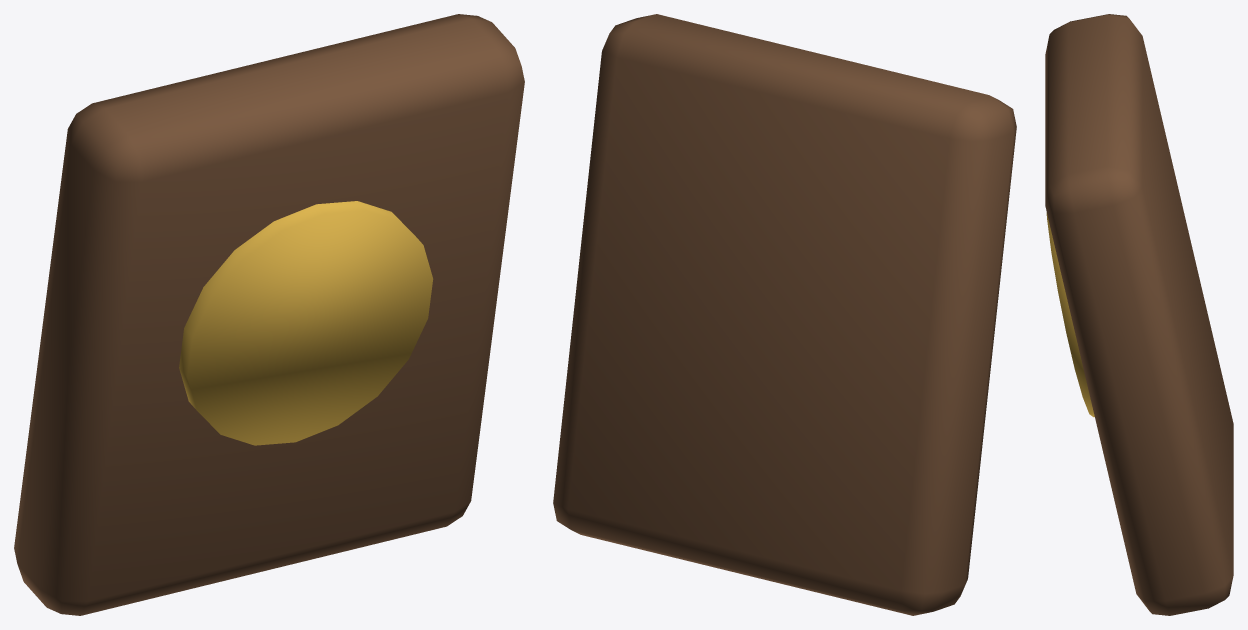
Rendered from Decor_AwardPlaque.fbx.
3 views of the same model, side by side, from view 1: azimuth 30°, elevation 25°; view 2: azimuth 150°, elevation 25°; view 3: azimuth 270°, elevation 25° (orthographic). The views are drawn at different scales.
Parts seen in each view (by area): view 1: Award_Board, Award_Medallion; view 2: Award_Board; view 3: Award_Board, Award_Medallion.
Part boxes in pixels (bbox=[...]): Award_Board: bbox=[14, 14, 524, 615]; Award_Medallion: bbox=[179, 201, 433, 445]; Award_Board: bbox=[553, 14, 1016, 615]; Award_Board: bbox=[1045, 14, 1233, 615]; Award_Medallion: bbox=[1046, 212, 1094, 417].
Bounding box in the file's own units: 4.2 × 4.97 × 1.89.
